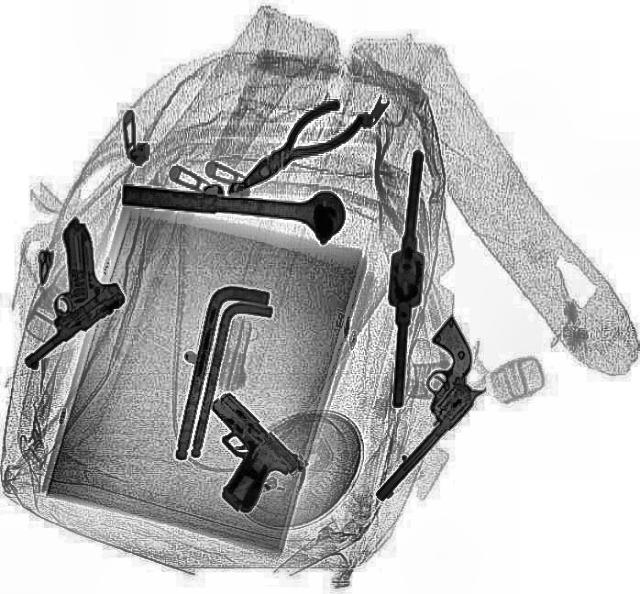Gun: (319, 314, 515, 504), (158, 390, 310, 520), (26, 214, 136, 376)
Pliers: (223, 89, 369, 208)
